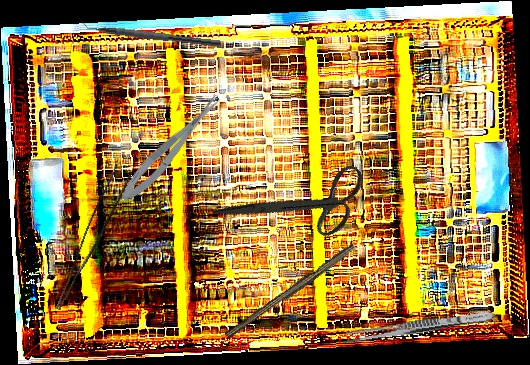Chopper: (74, 15, 224, 48)
Dressing Forceps: (341, 308, 497, 346)
Iris Scissors: (210, 121, 382, 287)
Micro Scissor: (114, 90, 229, 208)
Scalpel Handle: (224, 241, 358, 343)
Tissue Forceps: (55, 162, 134, 317)
